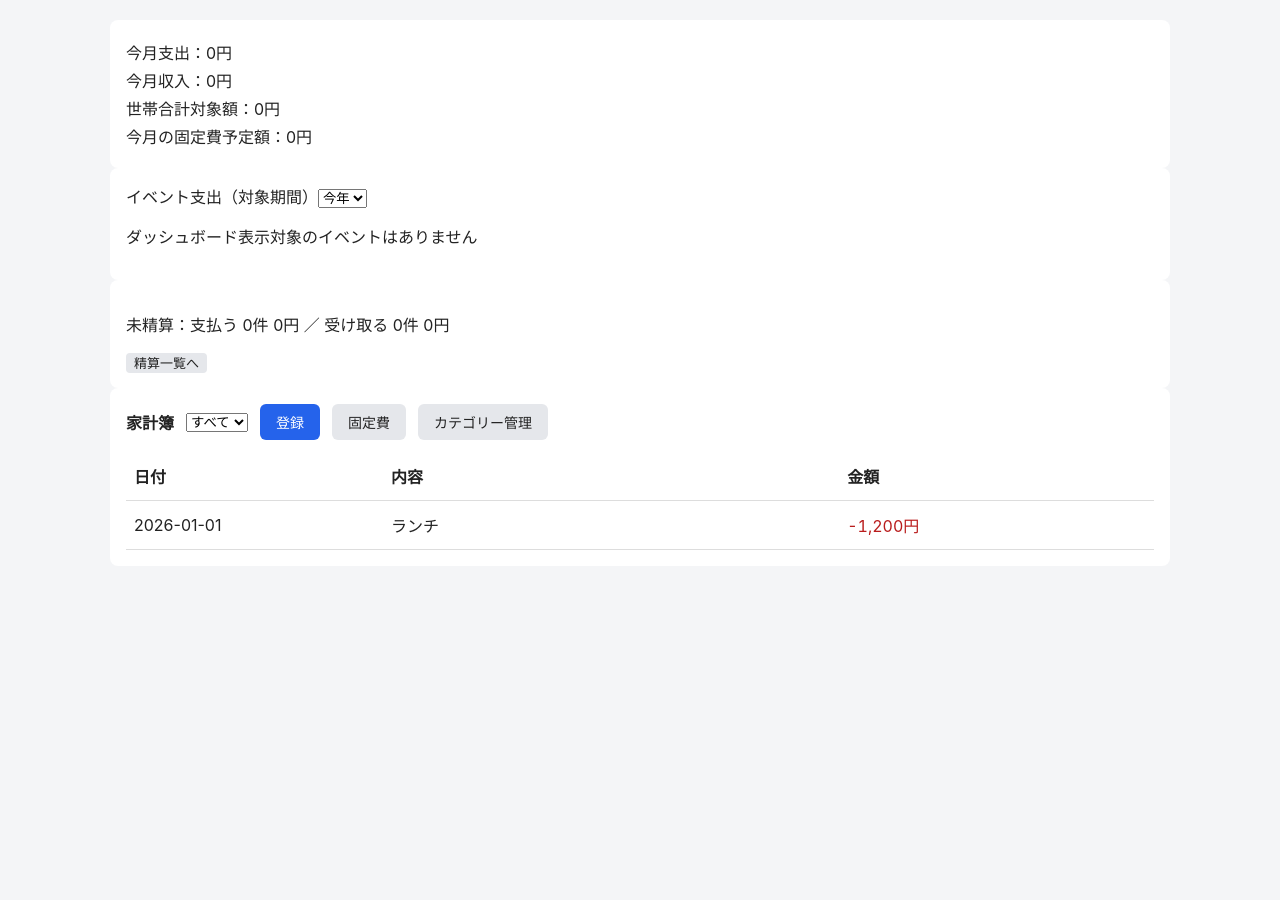
Scenario: 支出・収入の編集・削除 #277 › 編集をキャンセルすると変更前の詳細に戻る
Click the button with aria-label "支出：ランチの詳細".
click(178, 525)  # box [126,501,1154,550]
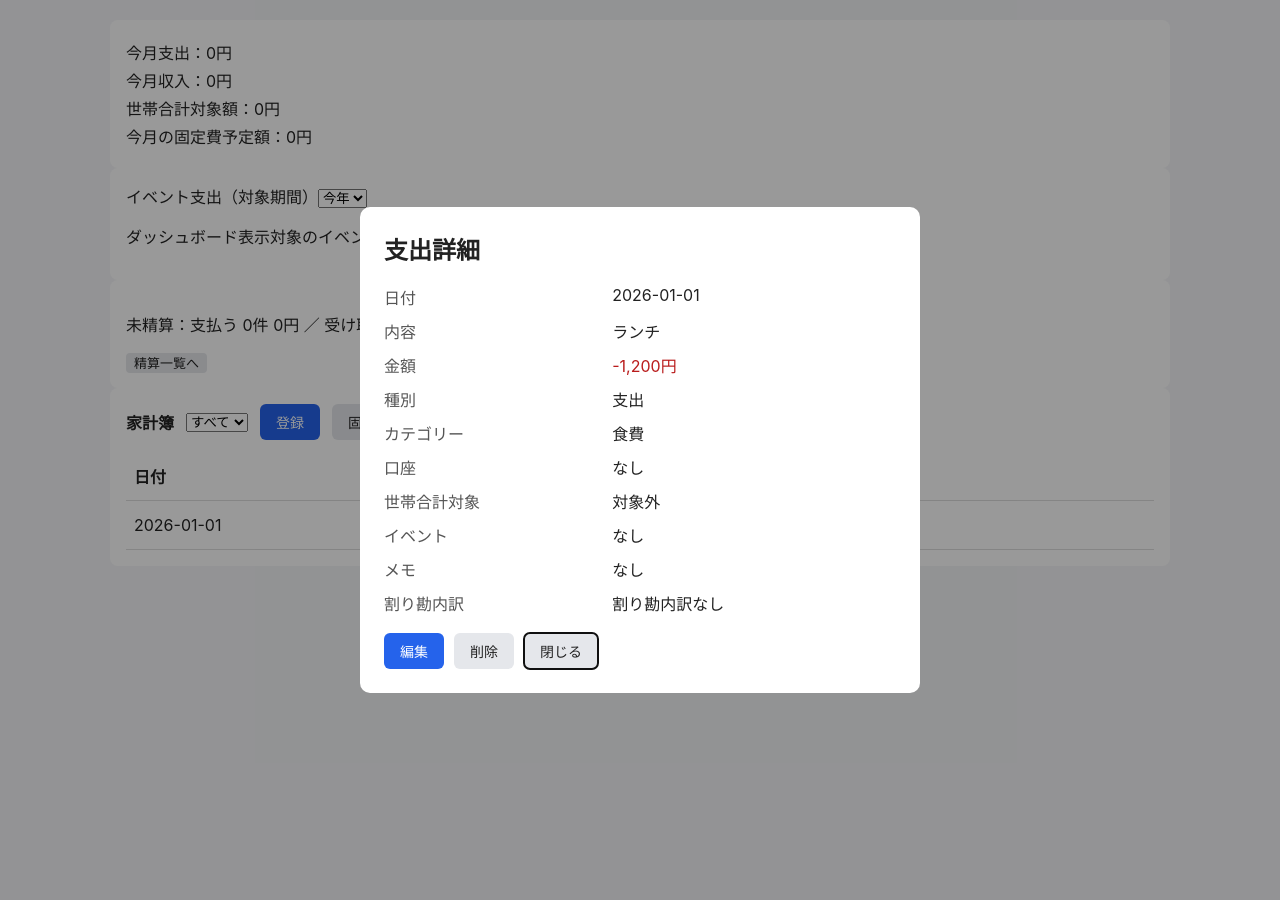
Check: the button "編集" is enabled
Click the button "編集".
click(414, 652)  # box [384,634,444,670]
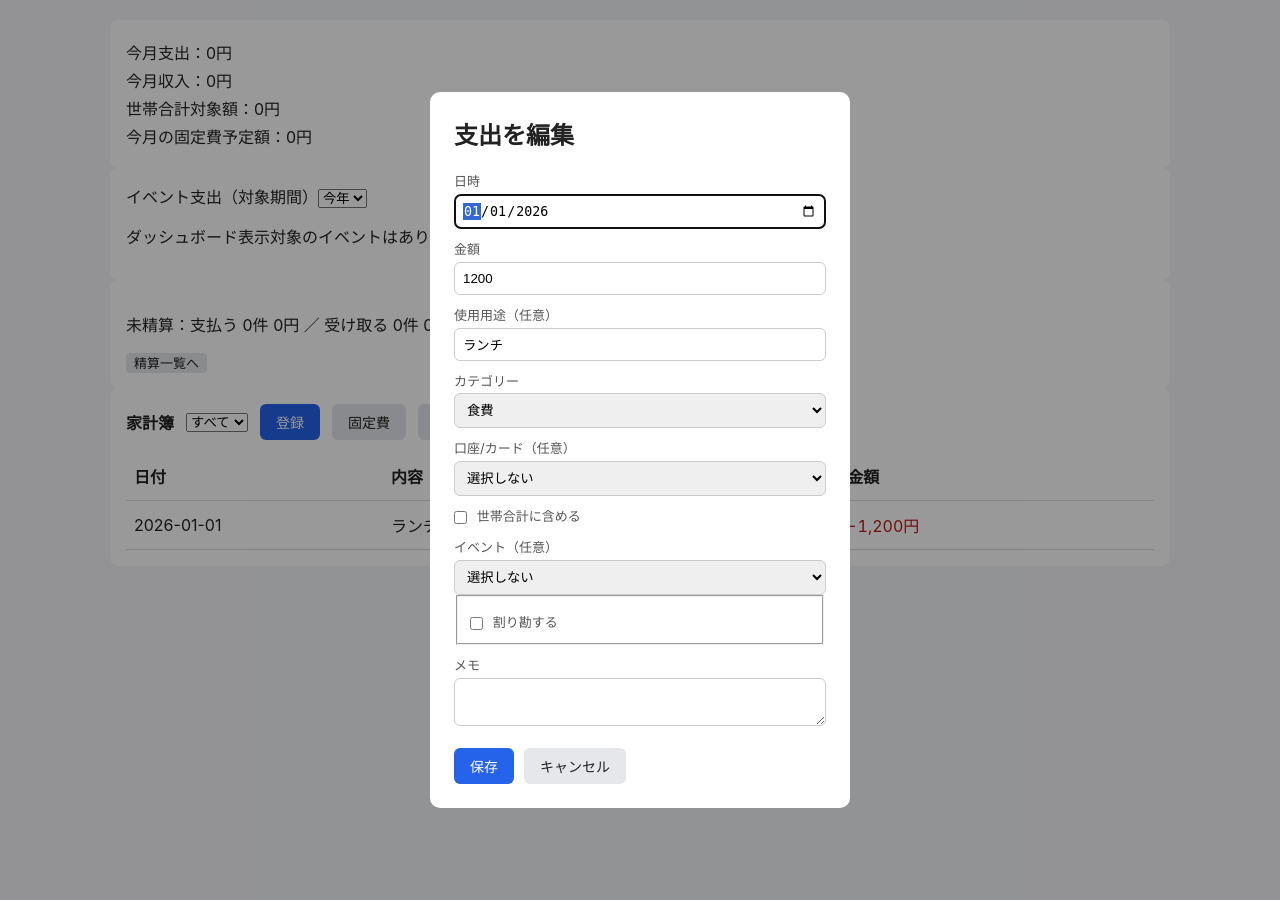
Replace the text in the field labelled "使用用途（任意）" with "[E2E_TEST]未保存" at (640, 344), box [454,328,826,361]
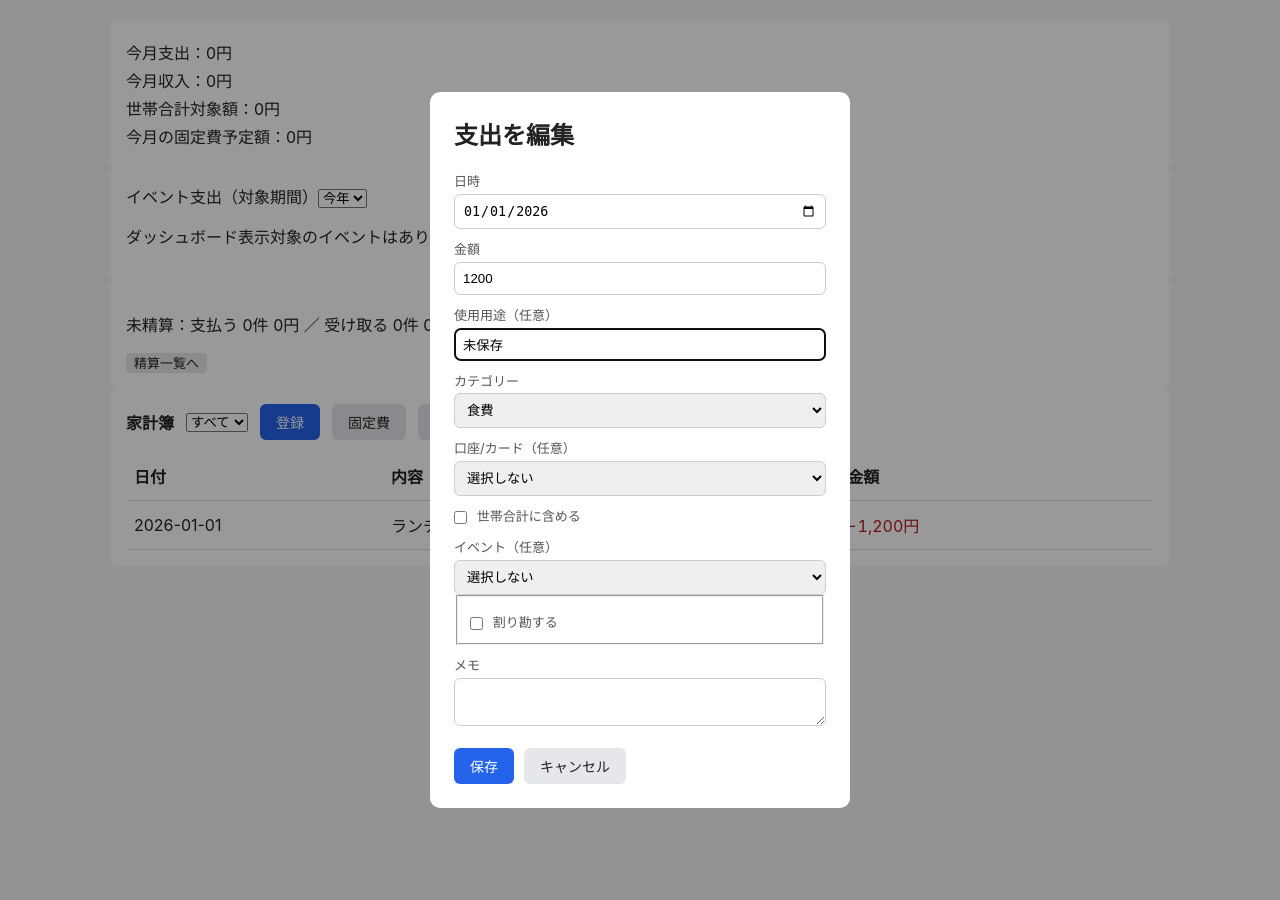
Click the button "キャンセル".
click(575, 766)  # box [524,748,626,784]
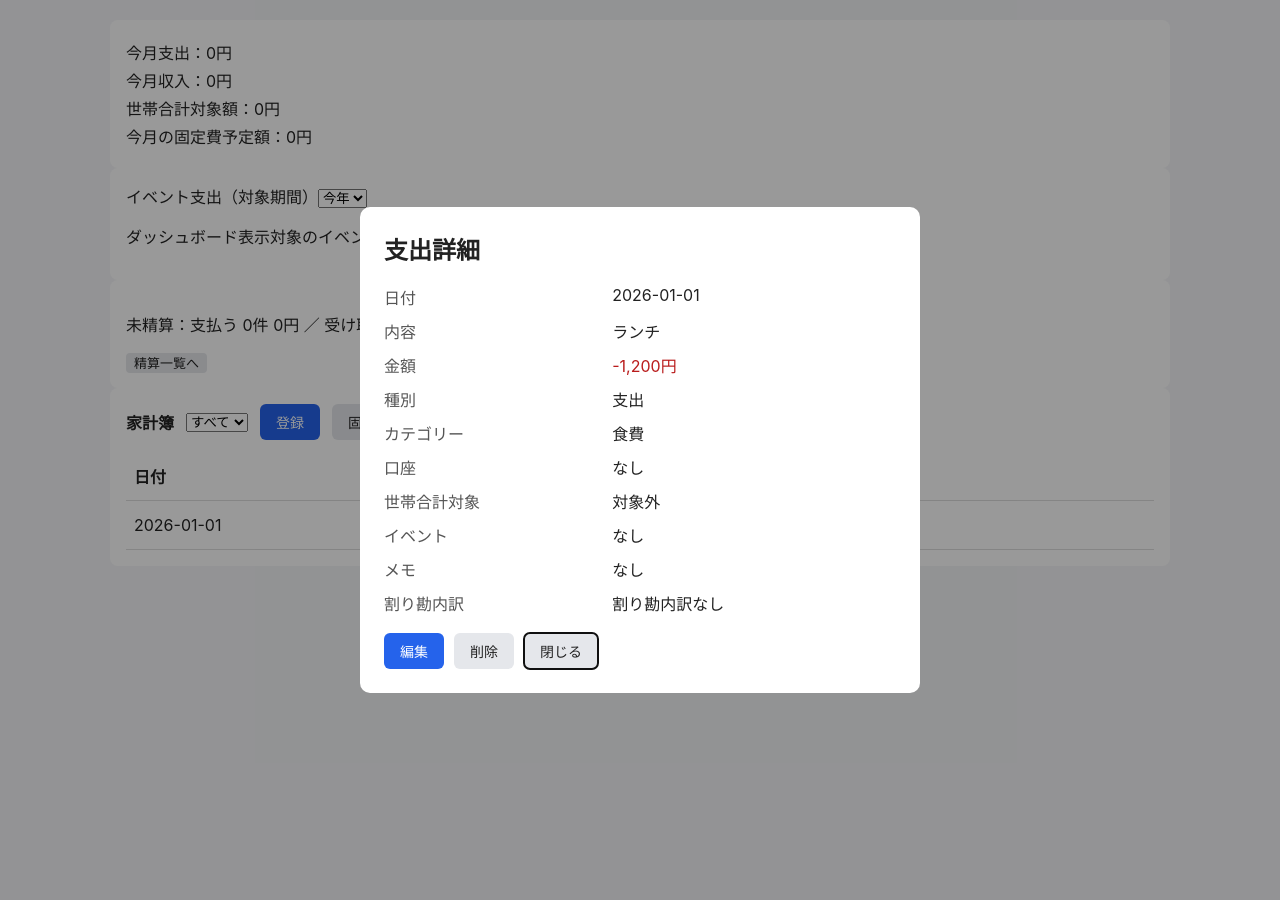
Check: the dialog "支出詳細" shows "ランチ", box [612,322,660,342]
